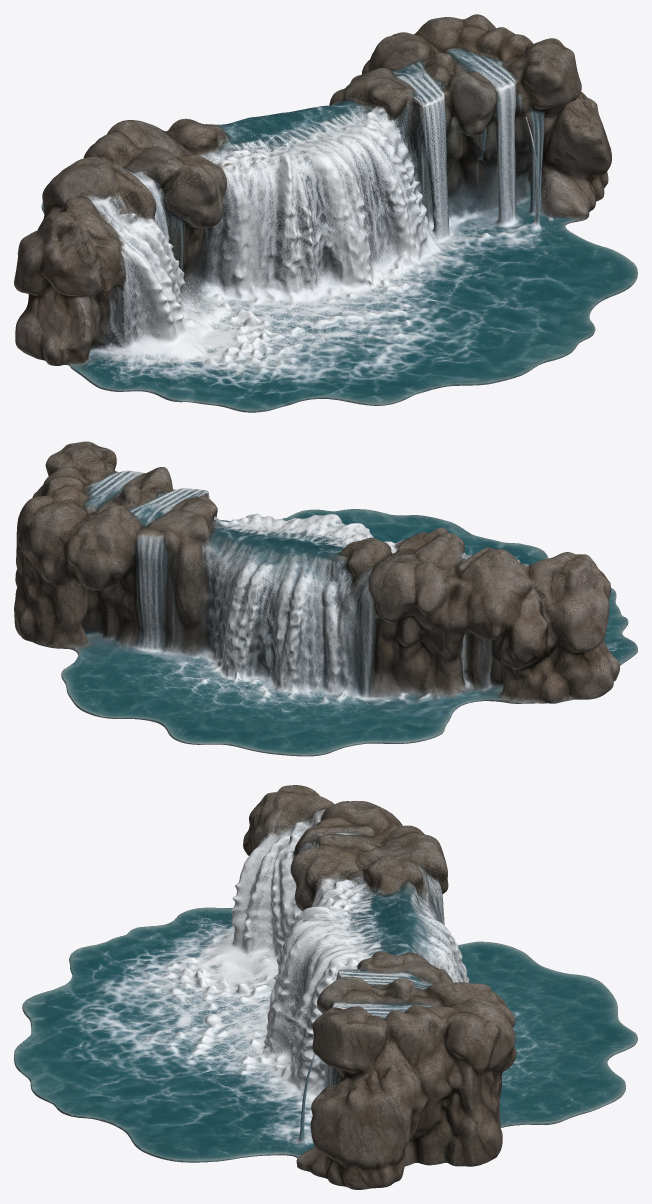
The model's file is waterfall_rocky_cascade.glb.
3 renders of one model, top to bottom at view 1: azimuth 30°, elevation 25°; view 2: azimuth 150°, elevation 25°; view 3: azimuth 270°, elevation 25°, orthographic. The views are drawn at different scales.
Bounding box in the file's own units: 1.9 × 0.4582 × 1.7.
Materials: 1 (1 with a texture image).
